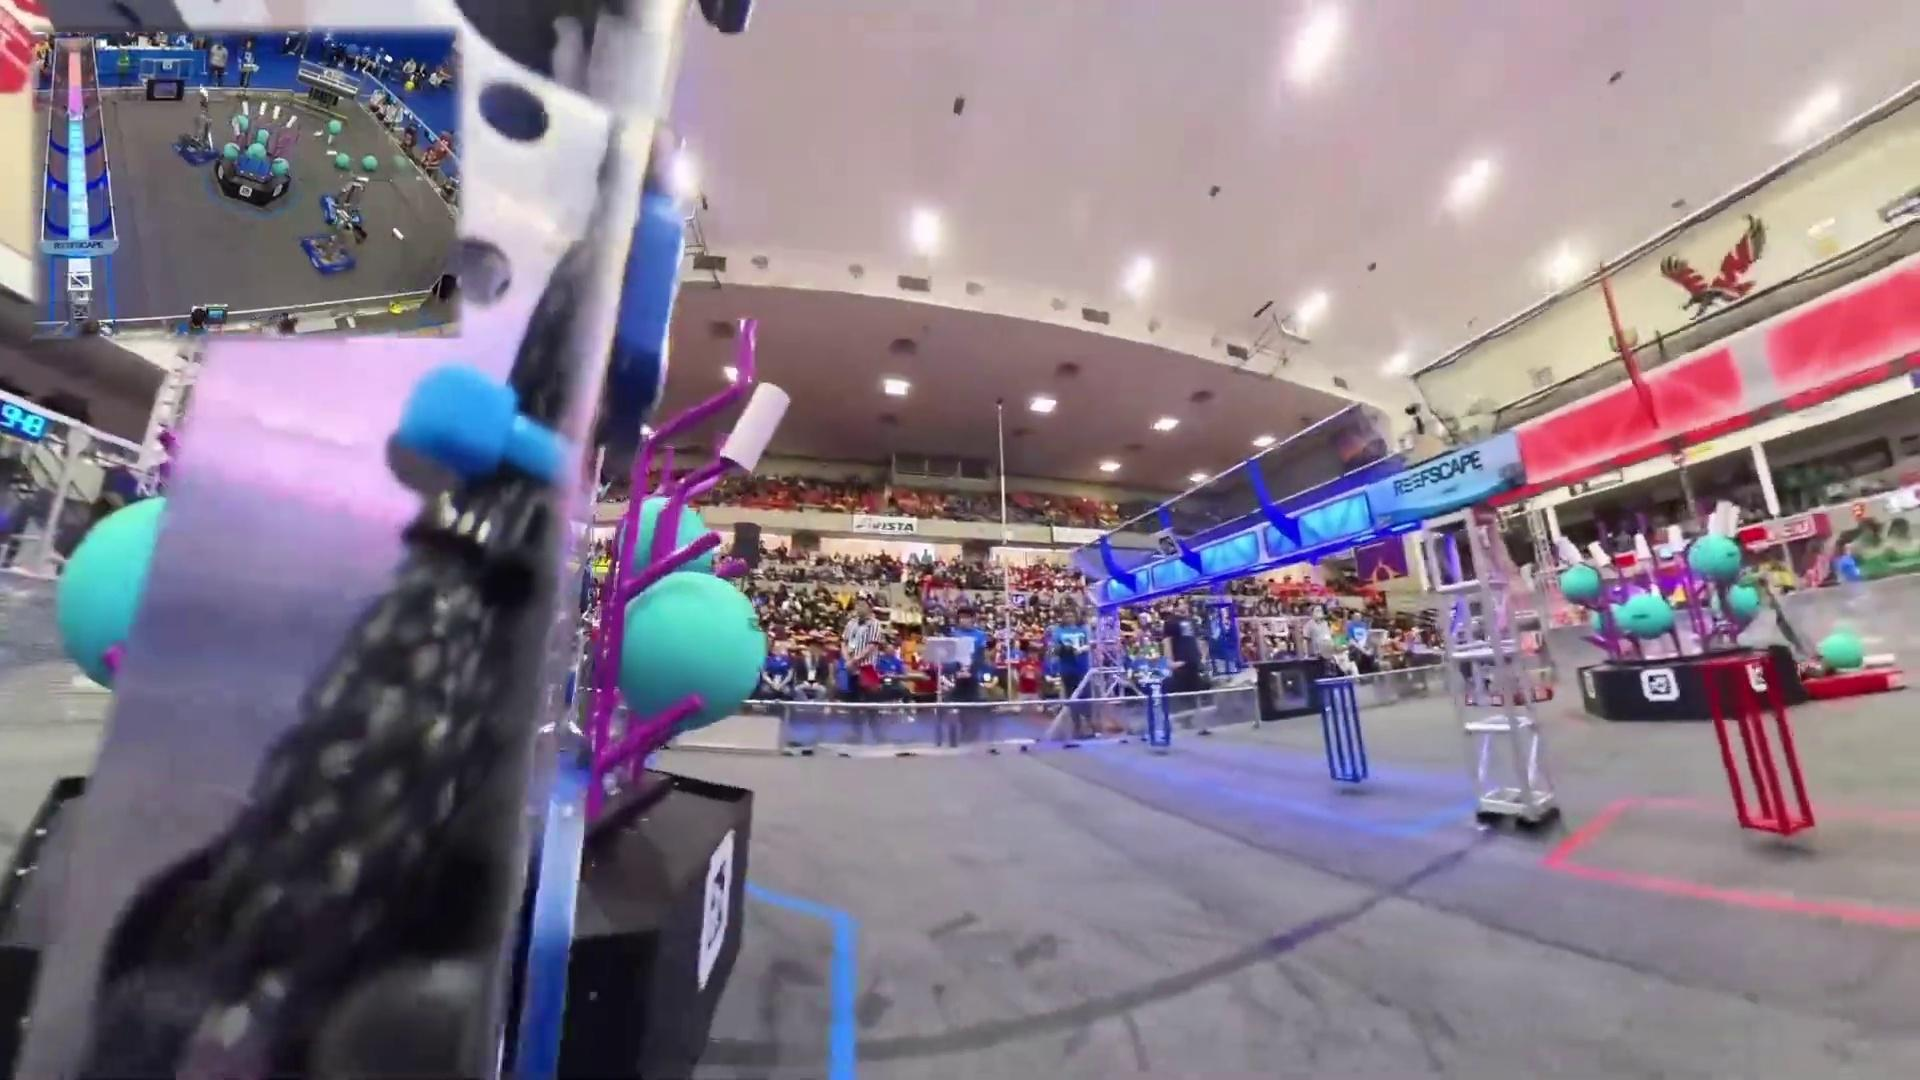robot: (1758, 572, 1909, 703), (298, 211, 360, 274), (171, 88, 220, 167), (1461, 676, 1553, 709), (320, 177, 367, 228)
